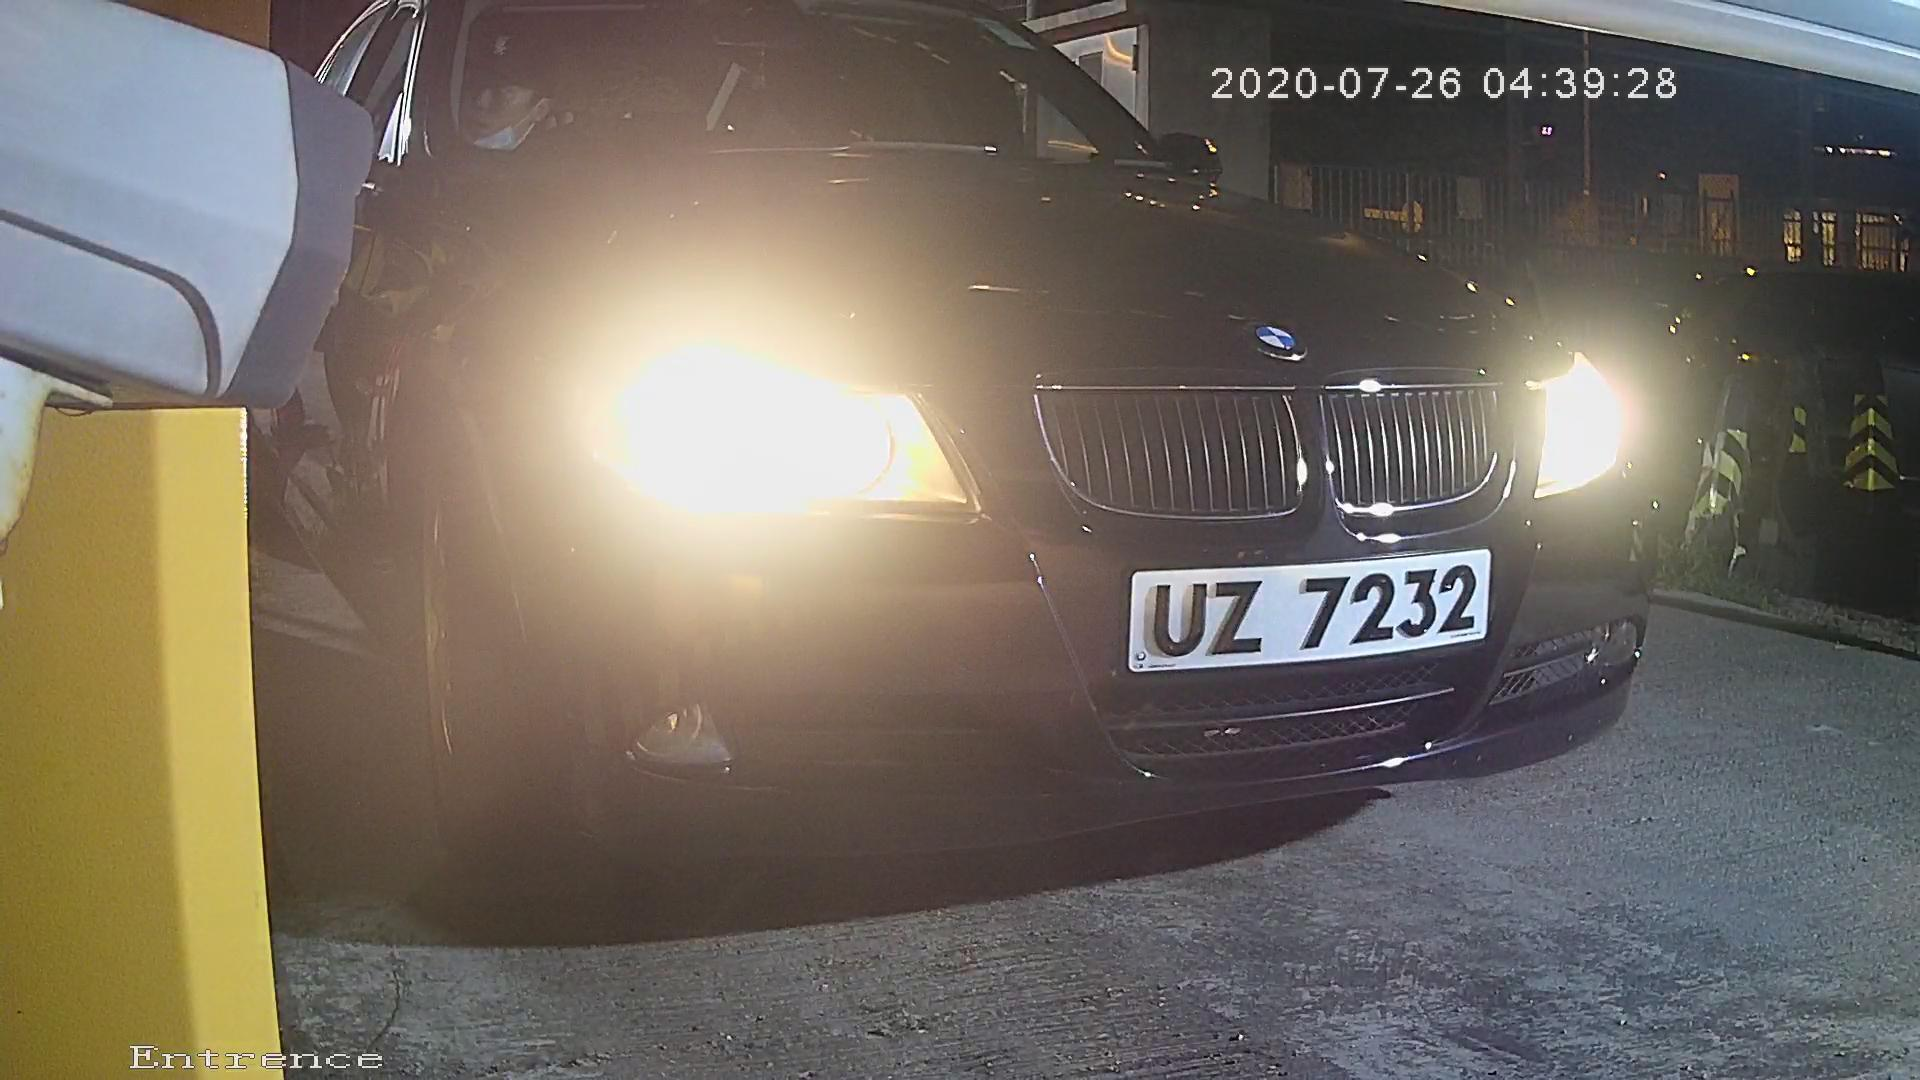privatecar: (361, 15, 1716, 878)
